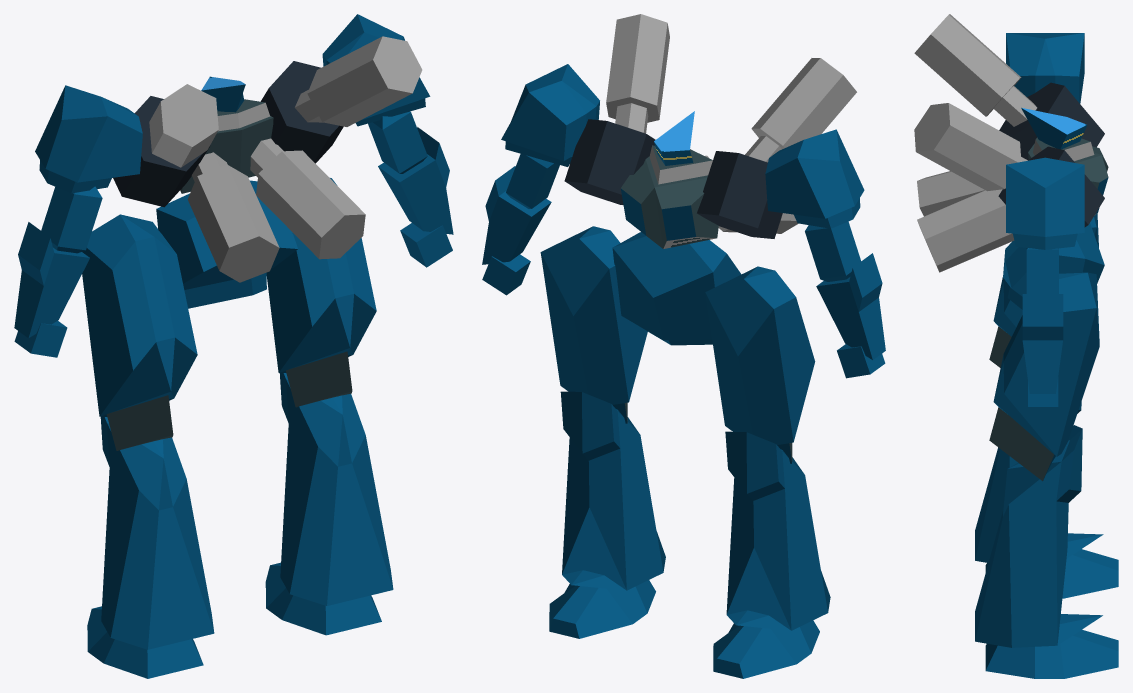
3 views of the same model, side by side, from view 1: azimuth 30°, elevation 25°; view 2: azimuth 150°, elevation 25°; view 3: azimuth 270°, elevation 25° (orthographic). The views are drawn at different scales.
Parts seen in each view (by area): view 1: LeftThigh, RightCalf, LelfCalf, RightThigh, LeftShoulder, RightLowerPipe, LeftLowerPipe, RightUpperPipe, Hips, LeftForearm, LeftUpperPipe, RightFuelTank (+11 smaller); view 2: LelfCalf, RightCalf, LeftThigh, RightThigh, Hips, LeftShoulder, Chest, RightShoulder, RightUpperPipe, LeftUpperPipe, LeftFuelTank, RightFuelTank (+9 smaller); view 3: RightCalf, RightThigh, RightShoulder, LeftUpperPipe, RightUpperPipe, RightLowerPipe, RightFoot, LeftShoulder, RightForearm, Hips, LelfCalf, LeftFuelTank (+8 smaller).
Boxes of the visible parts, left/top/right/bottom form: LeftThigh: left=82, top=214, right=197, bottom=450; RightCalf: left=279, top=373, right=393, bottom=605; LelfCalf: left=100, top=416, right=214, bottom=649; RightThigh: left=266, top=178, right=376, bottom=407; LeftShoulder: left=35, top=85, right=142, bottom=193; RightLowerPipe: left=250, top=138, right=365, bottom=259; LeftLowerPipe: left=187, top=152, right=279, bottom=282; RightUpperPipe: left=295, top=36, right=422, bottom=126; Hips: left=156, top=180, right=297, bottom=308; LeftForearm: left=14, top=222, right=89, bottom=338; LeftUpperPipe: left=149, top=84, right=218, bottom=167; RightFuelTank: left=261, top=61, right=343, bottom=163; LelfCalf: left=725, top=431, right=830, bottom=630; RightCalf: left=560, top=391, right=665, bottom=590; LeftThigh: left=705, top=266, right=815, bottom=463; RightThigh: left=540, top=226, right=647, bottom=423; Hips: left=612, top=232, right=741, bottom=345; LeftShoulder: left=765, top=129, right=864, bottom=228; Chest: left=620, top=145, right=718, bottom=248; RightShoulder: left=501, top=64, right=599, bottom=166; RightUpperPipe: left=606, top=14, right=669, bottom=133; LeftUpperPipe: left=745, top=58, right=856, bottom=162; LeftFuelTank: left=697, top=151, right=782, bottom=238; RightFuelTank: left=564, top=119, right=655, bottom=205; RightCalf: left=975, top=425, right=1102, bottom=647; RightThigh: left=989, top=272, right=1099, bottom=481; RightShoulder: left=1006, top=157, right=1084, bottom=249; LeftUpperPipe: left=914, top=14, right=1037, bottom=126; RightUpperPipe: left=914, top=103, right=1027, bottom=191; RightLowerPipe: left=917, top=189, right=1014, bottom=272; RightFoot: left=985, top=629, right=1118, bottom=678; LeftShoulder: left=1006, top=33, right=1084, bottom=103; RightForearm: left=1022, top=294, right=1063, bottom=393; Hips: left=1003, top=223, right=1104, bottom=309; LelfCalf: left=975, top=401, right=1103, bottom=562; LeftFuelTank: left=999, top=82, right=1104, bottom=160.
Bounding box in the file's own units: 7.6 × 10.36 × 3.42.
1 material, 1 textured.
